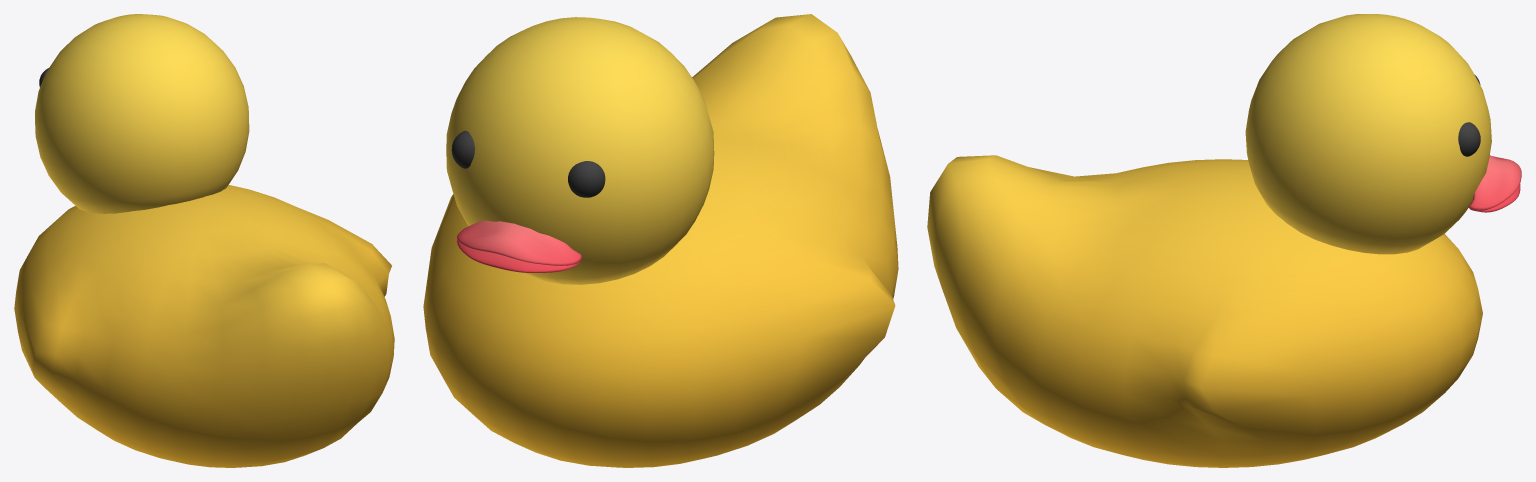
The model's file is Pato.fbx.
3 views of the same model, side by side, from view 1: azimuth 30°, elevation 25°; view 2: azimuth 150°, elevation 25°; view 3: azimuth 270°, elevation 25° (orthographic). The views are drawn at different scales.
Parts seen in each view (by area): view 1: Pato; view 2: Pato; view 3: Pato.
Part boxes in pixels (x1,y1,x2,y2): Pato: [14, 14, 394, 467]; Pato: [423, 14, 898, 467]; Pato: [927, 14, 1521, 467].
Bounding box in the file's own units: 24.44 × 18.96 × 19.31.
